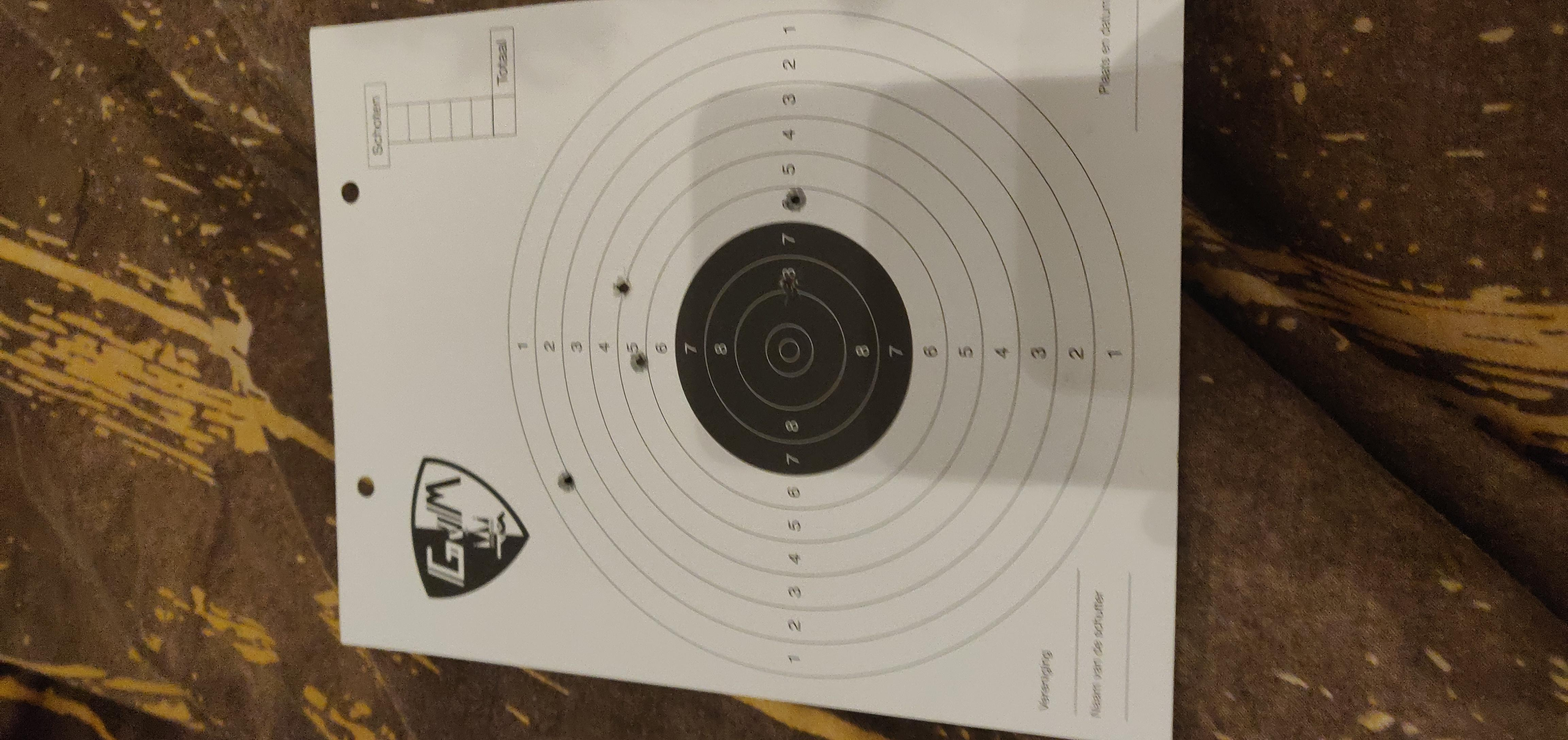hole: (934, 365, 1008, 379), (1113, 367, 1178, 382), (930, 287, 988, 300), (770, 295, 831, 307), (516, 263, 568, 273)
